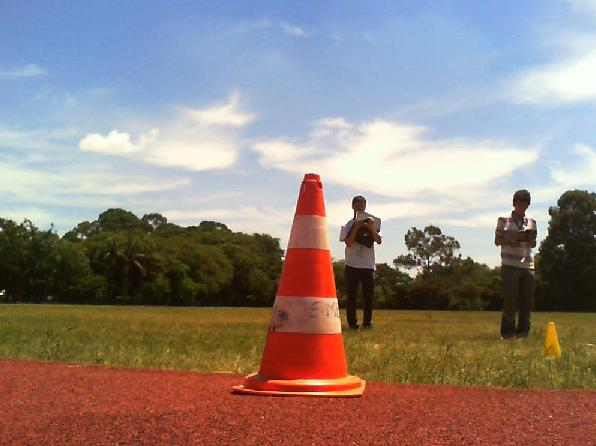0 cone: (230, 172, 365, 397), (542, 323, 562, 359)
